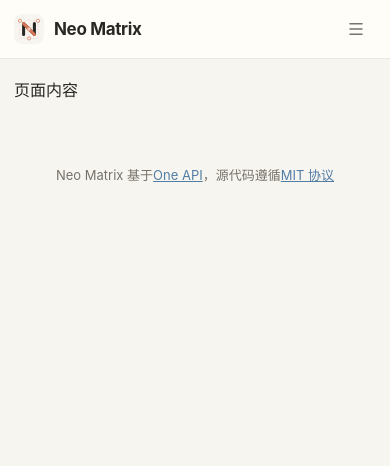
Test: AppShell › reveals and closes navigation on a narrow viewport
Expected: the link "关于" is not shown
What coordinates should you click on to do the following:
click the button named "打开导航"
I would click on:
 (356, 29)
Its box is 336,13 -> 376,45.
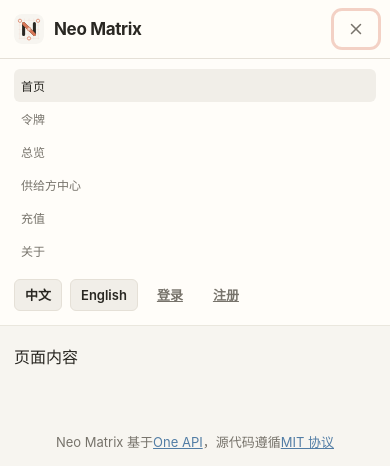
Expected: the link "关于" is shown, 21,244 -> 45,259
What coordinates should you click on to do the following:
click the button named "关闭导航"
I would click on:
 (356, 29)
Its box is 336,13 -> 376,45.
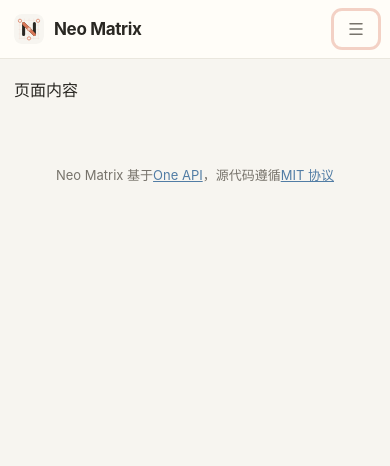
Expected: the link "关于" is gone
